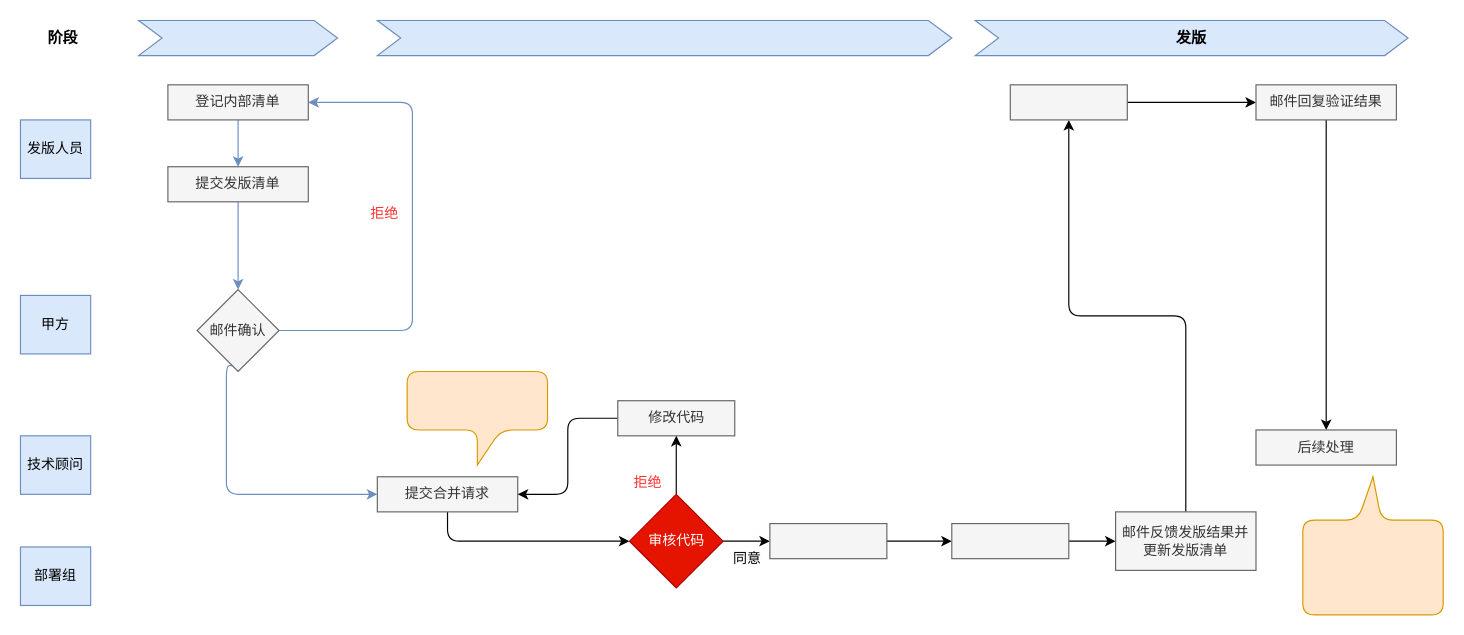
Image size: 1464x635. Some labels were removed from this diagram. Each missing label, with the centre of its shape:
"发版验证" belongs at [1068,102].
"合并代码" belongs at [828,540].
"审批" belongs at [664,37].
"打包部署" belongs at [1010,540].
"生产环境发版成功后务必将代码同步到master1分支、sit / uat环境" belongs at [1372,545].
"申请" belongs at [237,37].
"目标分支为部署分支 deployment/***" belongs at [477,417].
